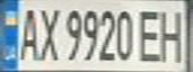0: (115, 5, 139, 62)
2: (97, 3, 118, 62)
9: (60, 3, 84, 62), (78, 3, 100, 62)
A: (12, 2, 42, 62)
E: (136, 4, 166, 63)
H: (154, 5, 190, 62)
X: (33, 2, 60, 62)
